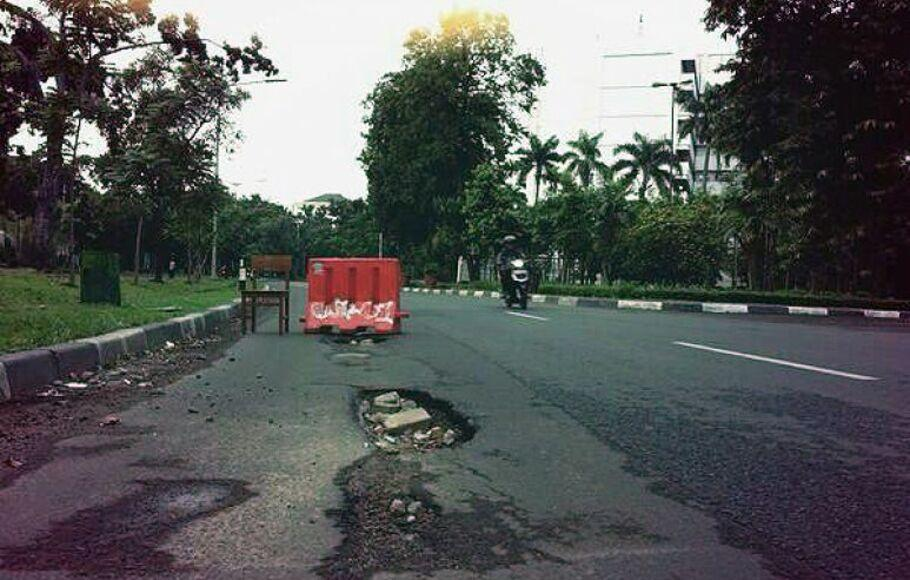Pothole: (309, 369, 510, 542)
